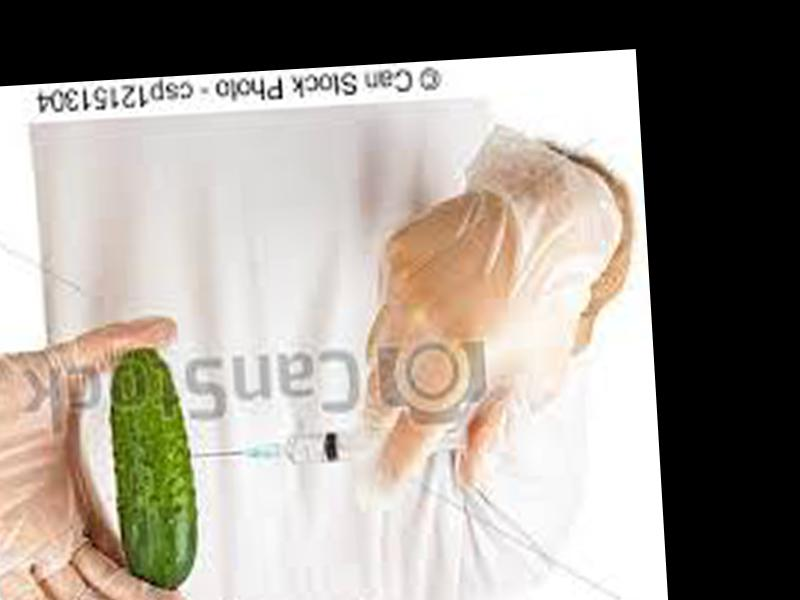Cucumber: (103, 341, 197, 593)
